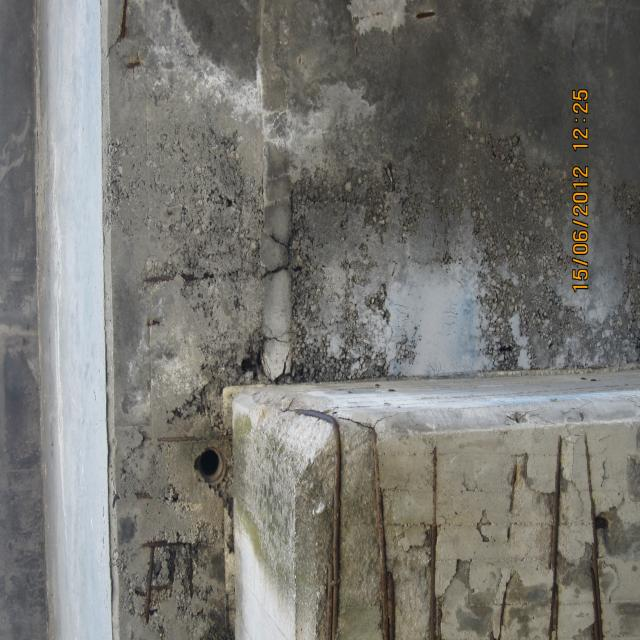corrosion: (0, 379, 178, 640), (7, 171, 162, 307), (225, 184, 321, 236), (402, 141, 480, 201), (457, 540, 480, 596)
